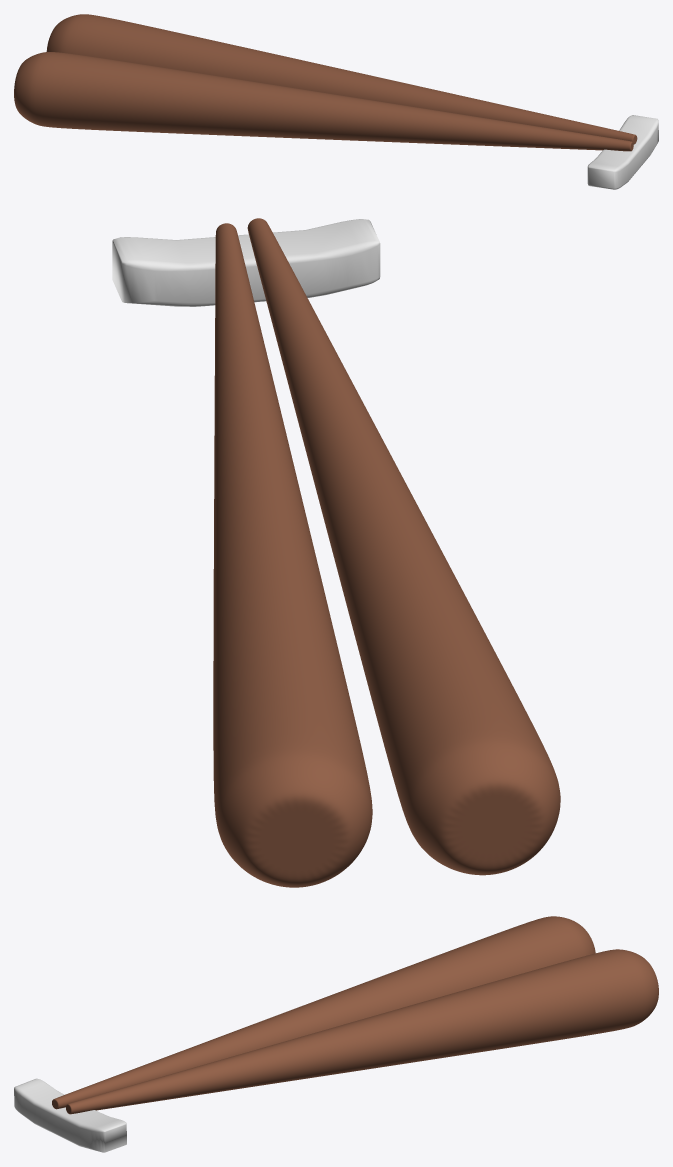
File: sushi_chopsticks__суши_палички_Low_poly.fbx
3 renders of one model, top to bottom at view 1: azimuth 30°, elevation 25°; view 2: azimuth 150°, elevation 25°; view 3: azimuth 270°, elevation 25°, orthographic. The views are drawn at different scales.
Parts seen in each view (by area): view 1: Stils_obj_cleaner_materialmerger_gles; view 2: Stils_obj_cleaner_materialmerger_gles; view 3: Stils_obj_cleaner_materialmerger_gles.
Boxes of the visible parts, x1,y1,x2,y2 form: Stils_obj_cleaner_materialmerger_gles: [14, 14, 658, 189]; Stils_obj_cleaner_materialmerger_gles: [112, 218, 560, 887]; Stils_obj_cleaner_materialmerger_gles: [14, 916, 658, 1152].
Bounding box in the file's own units: 401 × 61.23 × 490.
